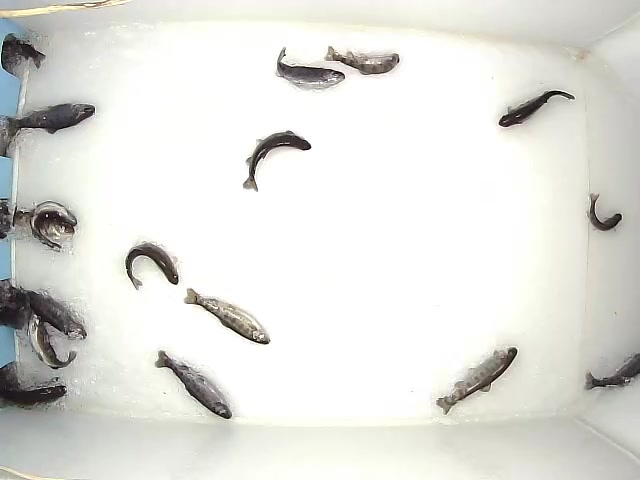fish: (434, 346, 518, 416), (154, 349, 234, 420), (183, 287, 271, 346), (9, 282, 89, 341), (242, 129, 312, 193), (4, 102, 96, 139), (275, 46, 346, 92), (497, 89, 576, 128), (28, 311, 77, 370), (124, 240, 180, 291), (29, 199, 77, 254), (324, 44, 402, 76), (582, 351, 640, 391), (1, 209, 76, 239), (585, 191, 623, 233)
